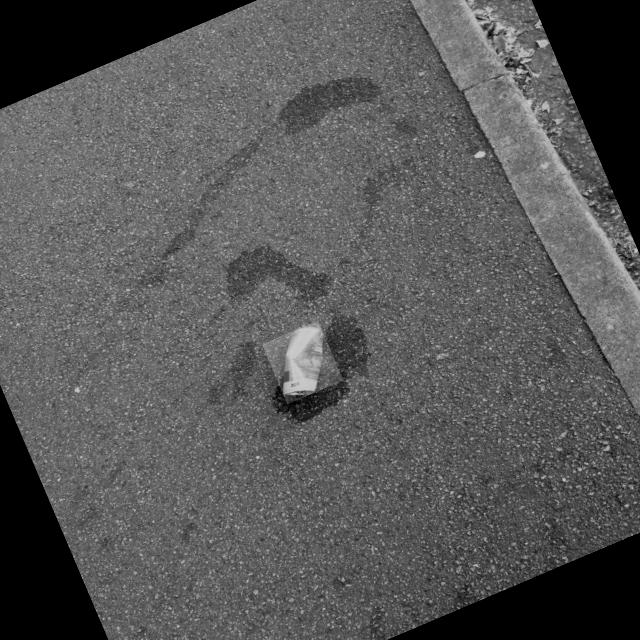Drink can: (282, 327, 322, 395)
Pop tab: (294, 391, 306, 395)
